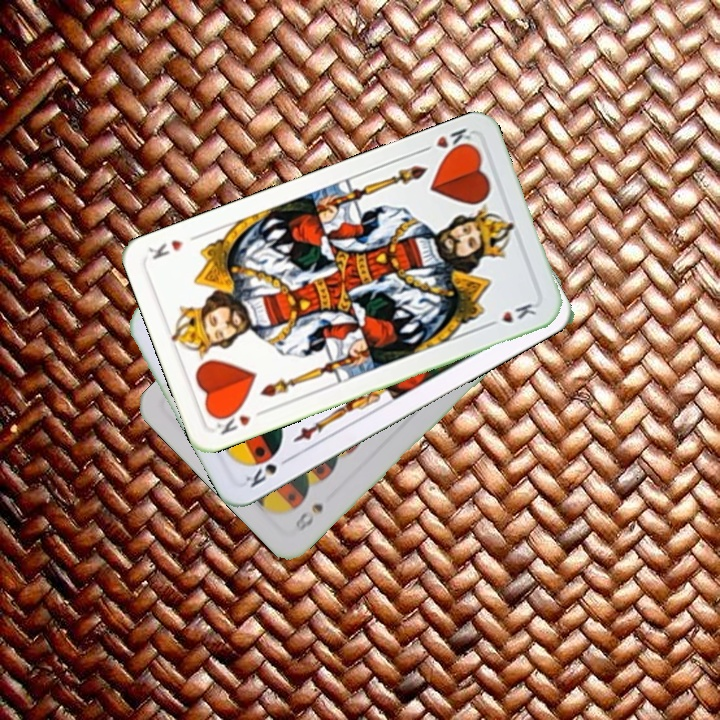HK: (416, 124, 475, 159), (209, 405, 268, 438)
S8: (291, 499, 326, 535)
SK: (241, 452, 295, 491)
